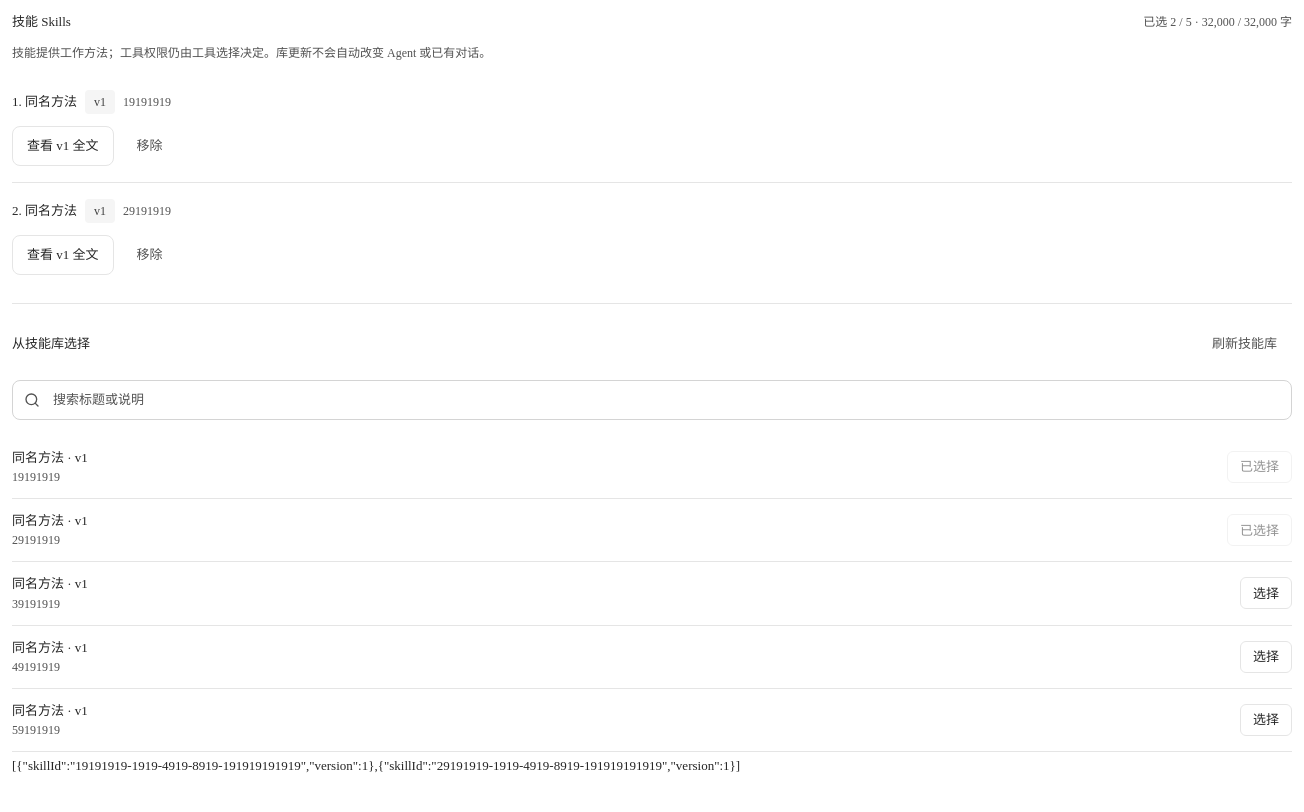
Scenario: independent exact Agent Skill selection › accepts exactly 32000 characters, rejects 32001 before changing references and keeps bindings on library failure
The image size is (1304, 812).
Click the button "选择" in the row of "39191919" at coordinates (1266, 594), box [1240, 578, 1292, 610]
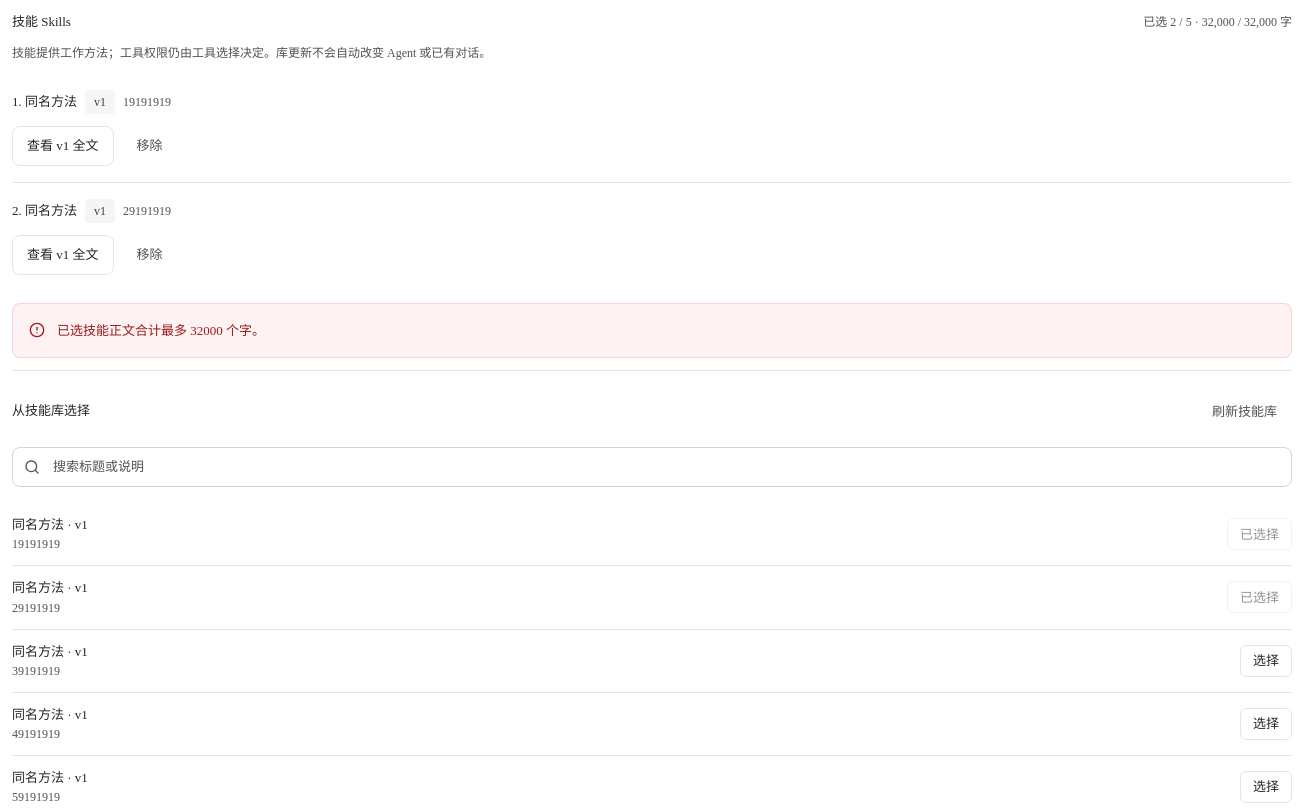
Result: the text "已选技能正文合计最多 32000 个字。" is shown at [57, 323, 265, 338]
Click the button "刷新技能库" at coordinates (1244, 411), box [1197, 391, 1292, 431]
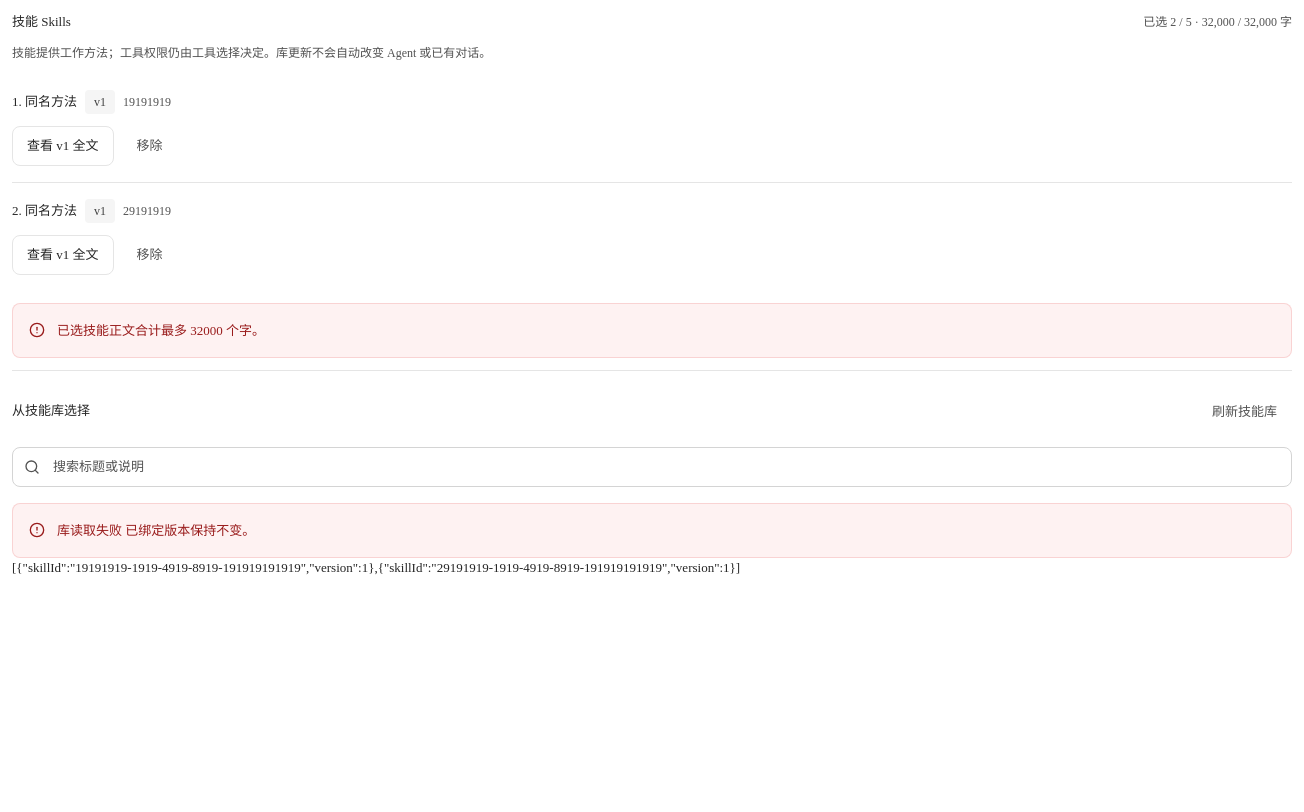
Result: the text "库读取失败 已绑定版本保持不变。" is shown at [57, 523, 255, 538]
